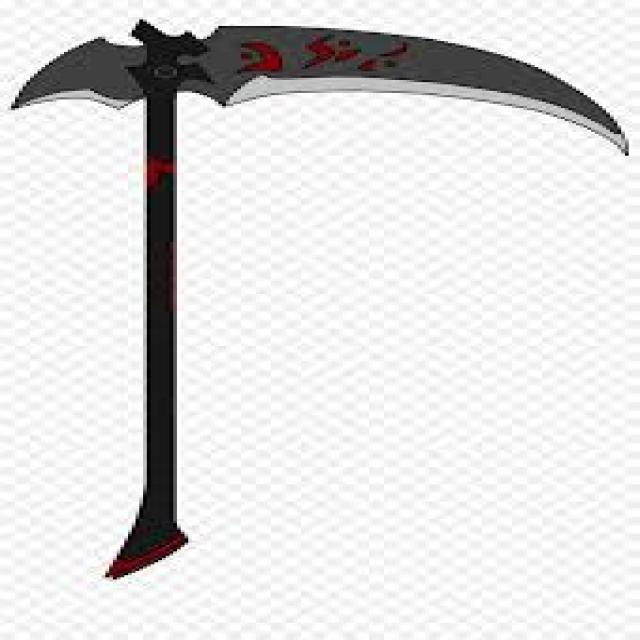sickle: (31, 17, 640, 634)
